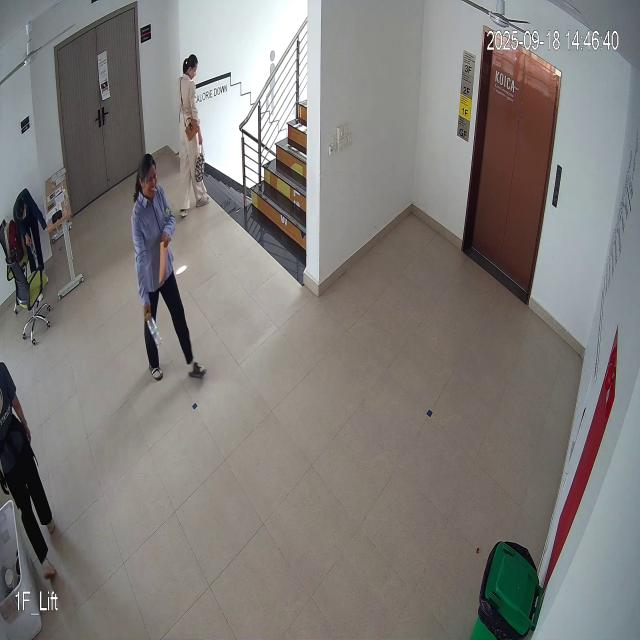face: (136, 150, 158, 200)
